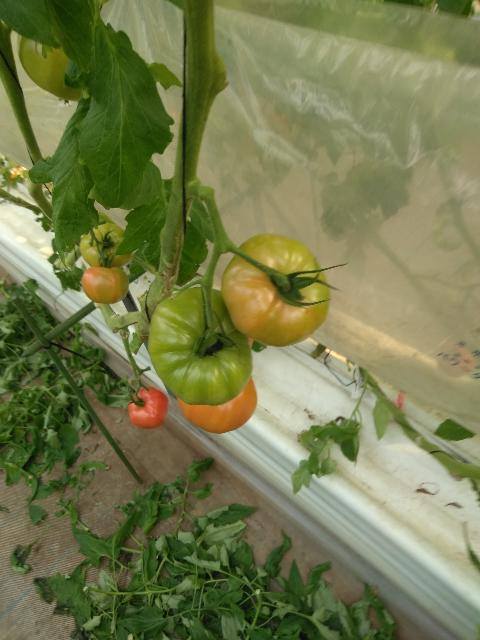b_fully_ripened: (128, 385, 170, 428)
b_green: (148, 287, 253, 405), (17, 33, 83, 103), (80, 222, 133, 268)
b_half_ripened: (220, 233, 332, 348), (176, 377, 257, 434), (82, 267, 130, 304)
